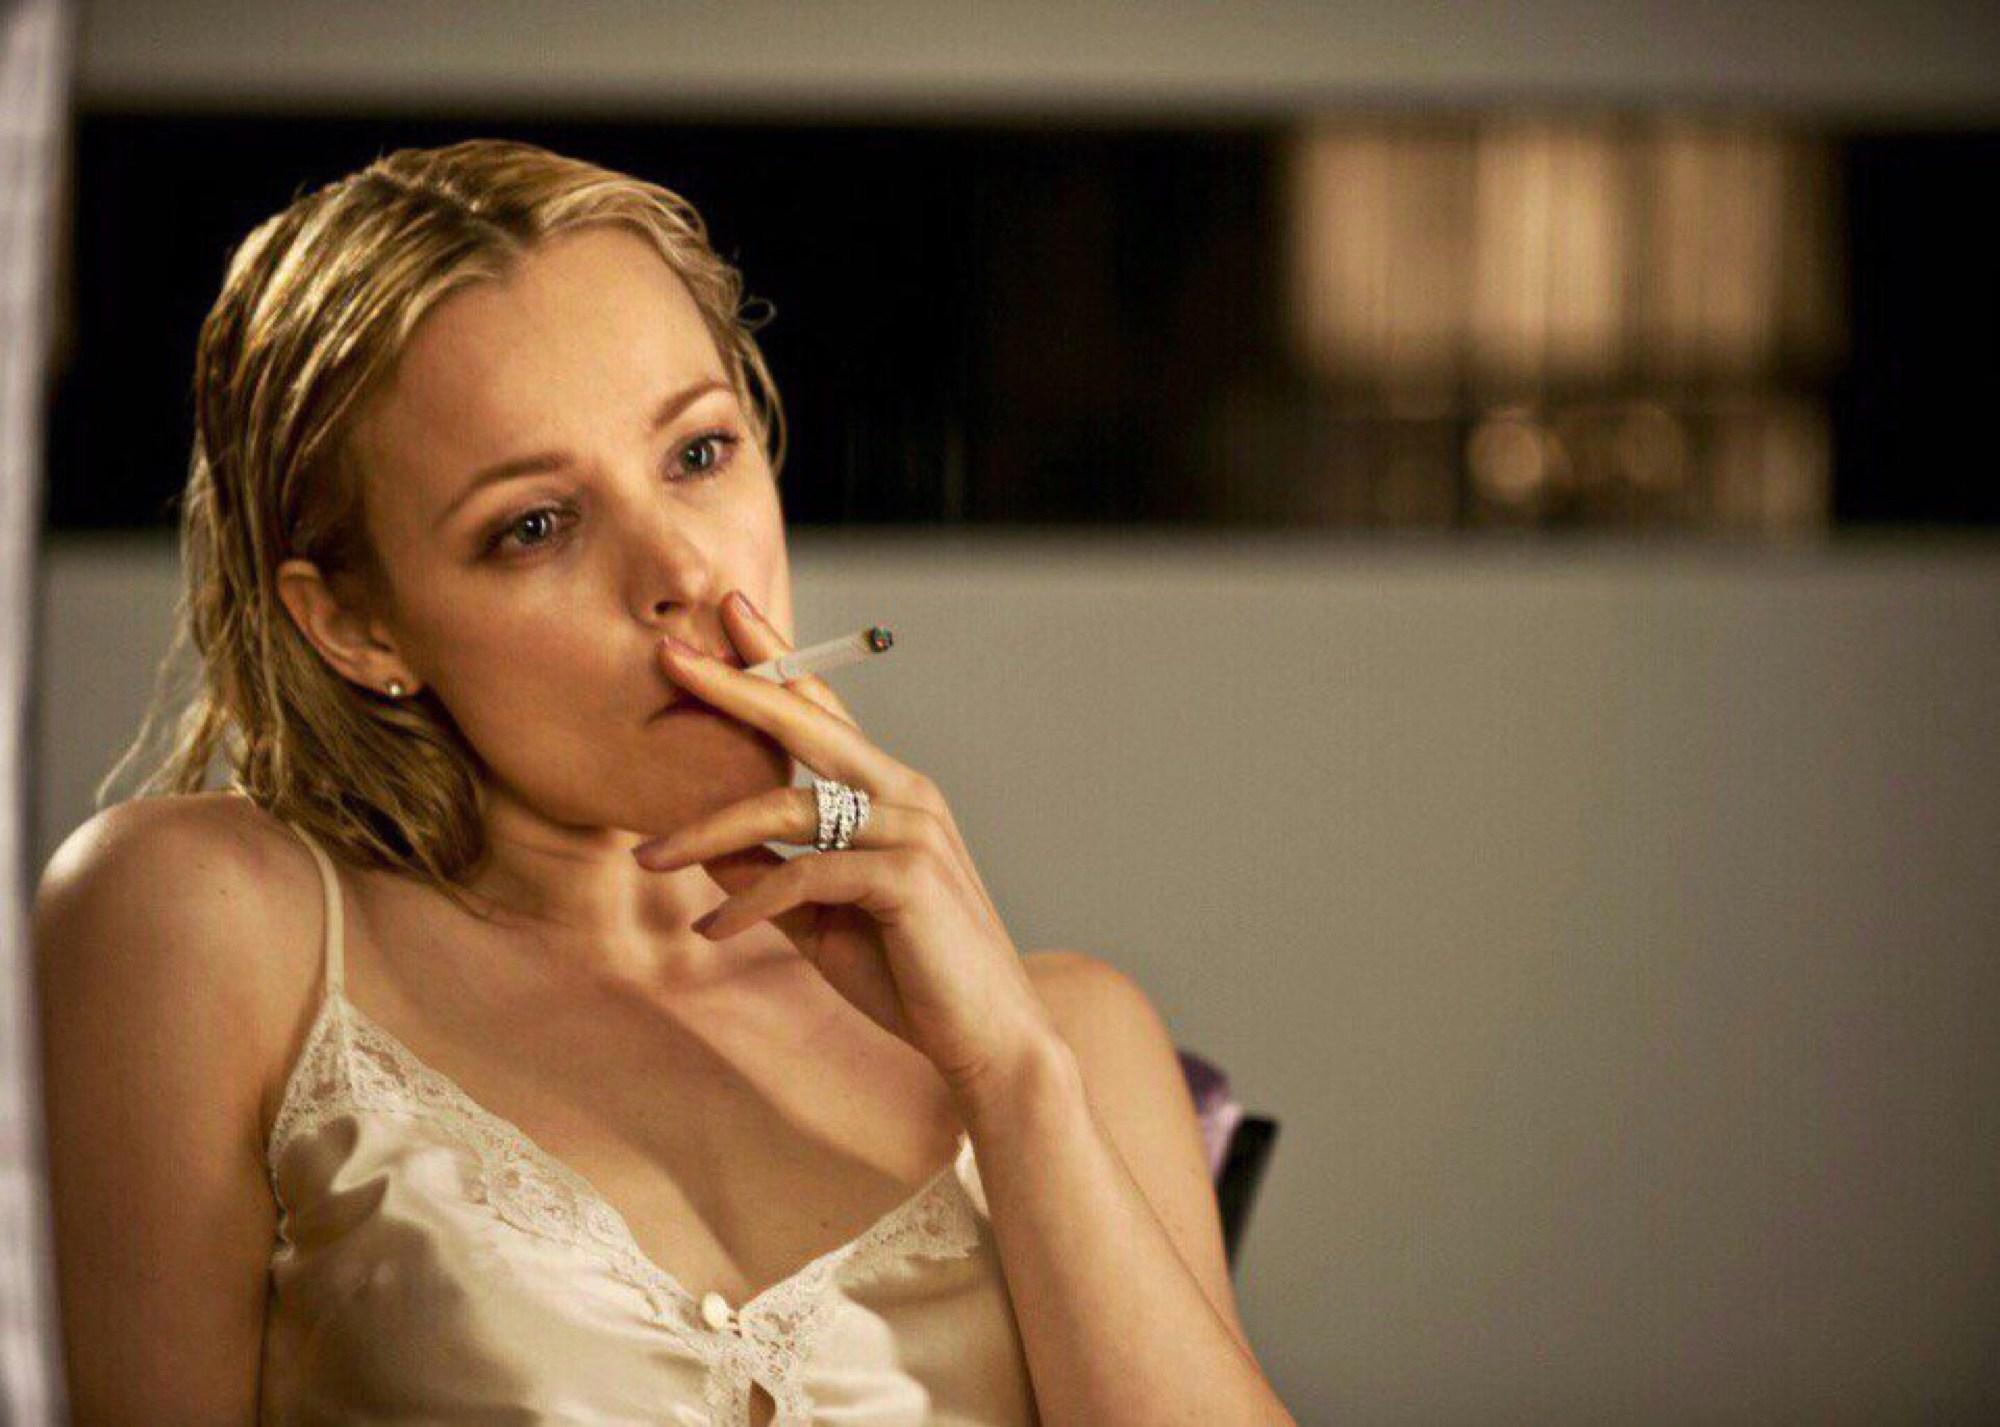cigarette: (744, 625, 899, 684)
